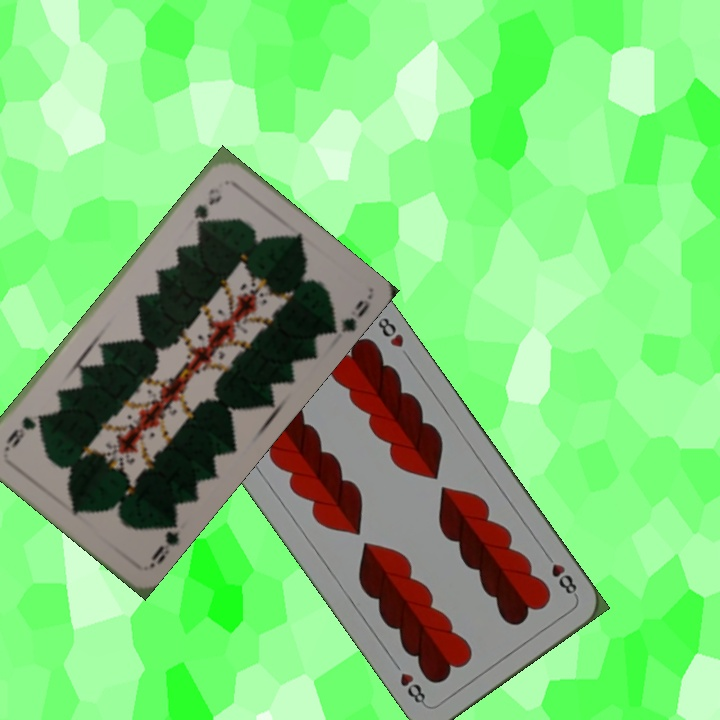G9: (145, 514, 182, 571), (189, 183, 224, 229)
H8: (540, 548, 580, 600)
